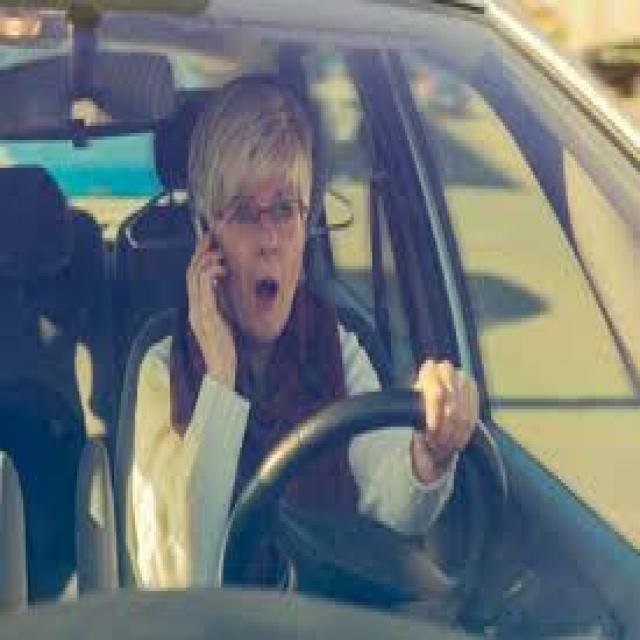Cellphone_calling: (172, 192, 252, 378)
